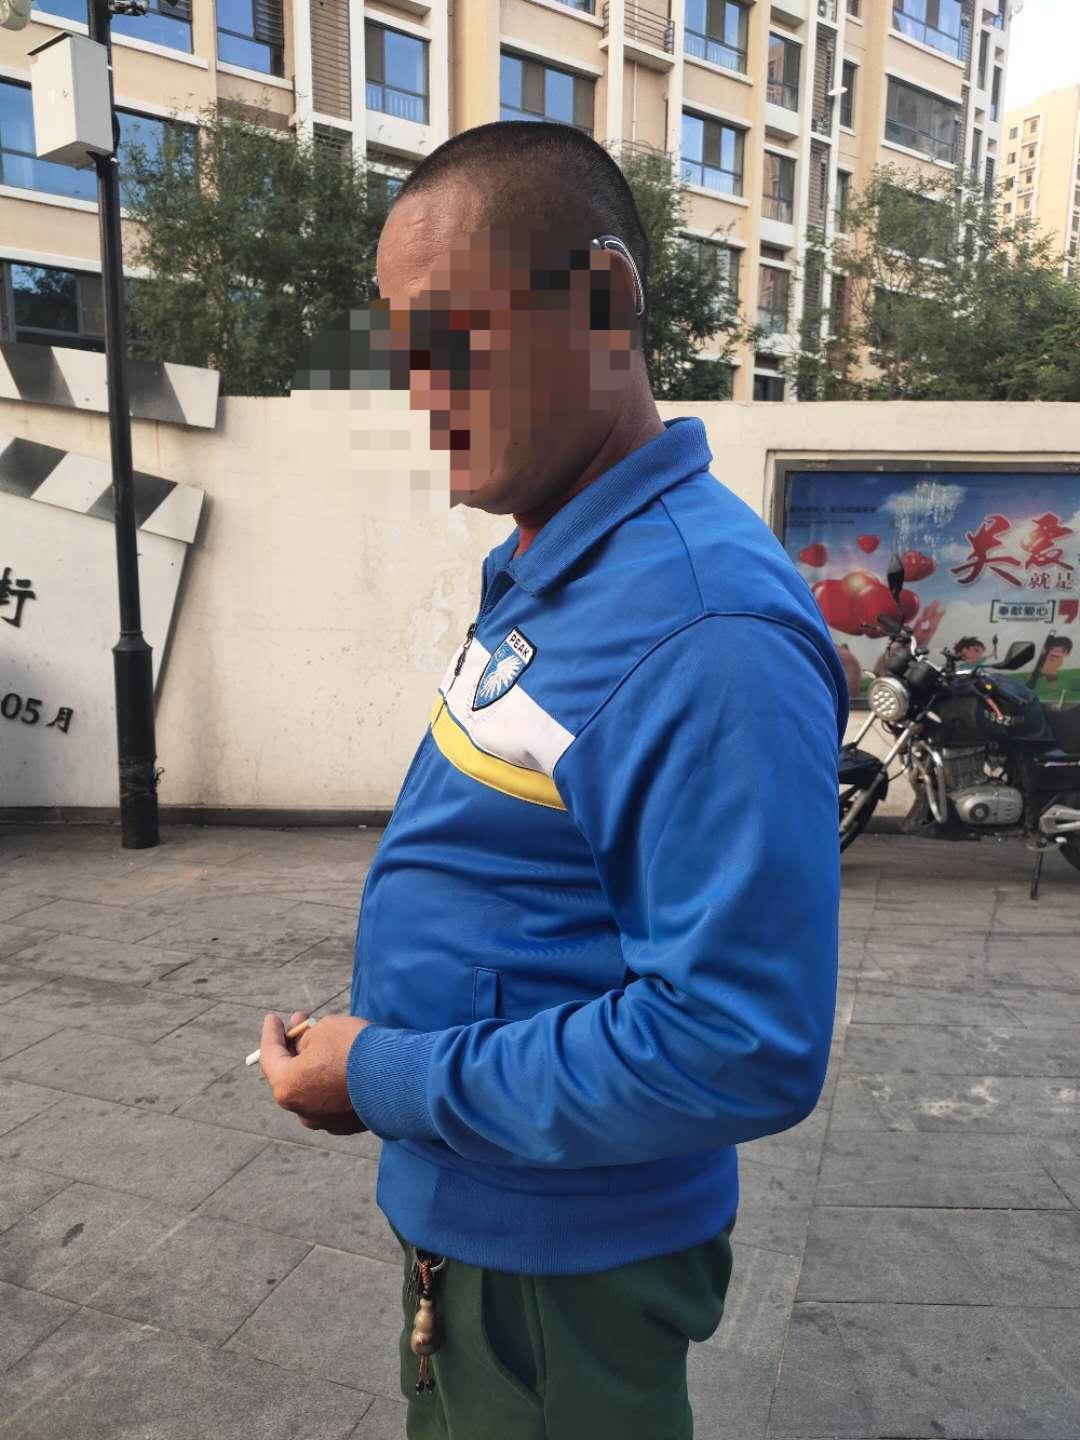smoke: (246, 1016, 312, 1066)
